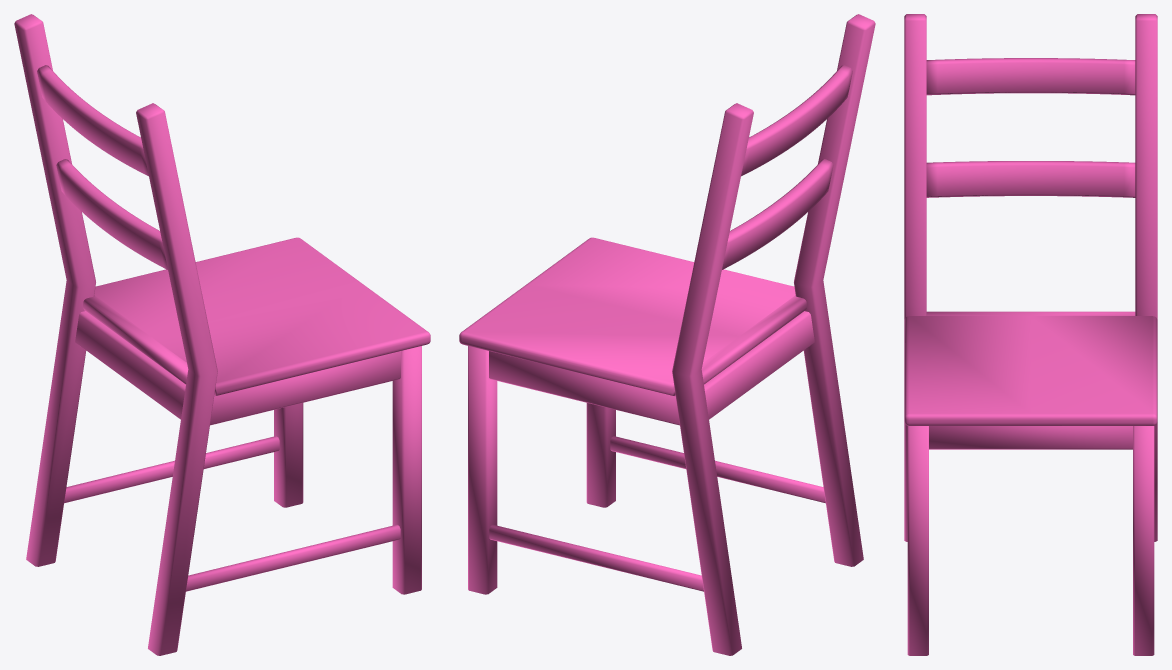
The model's file is Chair.obj.
3 renders of one model, left to right at view 1: azimuth 30°, elevation 25°; view 2: azimuth 150°, elevation 25°; view 3: azimuth 270°, elevation 25°, orthographic. The views are drawn at different scales.
Parts seen in each view (by area): view 1: 000_Merged_Objects; view 2: 000_Merged_Objects; view 3: 000_Merged_Objects.
Boxes of the visible parts, left/top/right/bottom form: 000_Merged_Objects: left=14, top=14, right=430, bottom=655; 000_Merged_Objects: left=459, top=14, right=875, bottom=655; 000_Merged_Objects: left=904, top=14, right=1157, bottom=655.
Size of the model in its own units: 73.7 by 134 by 59.51.
